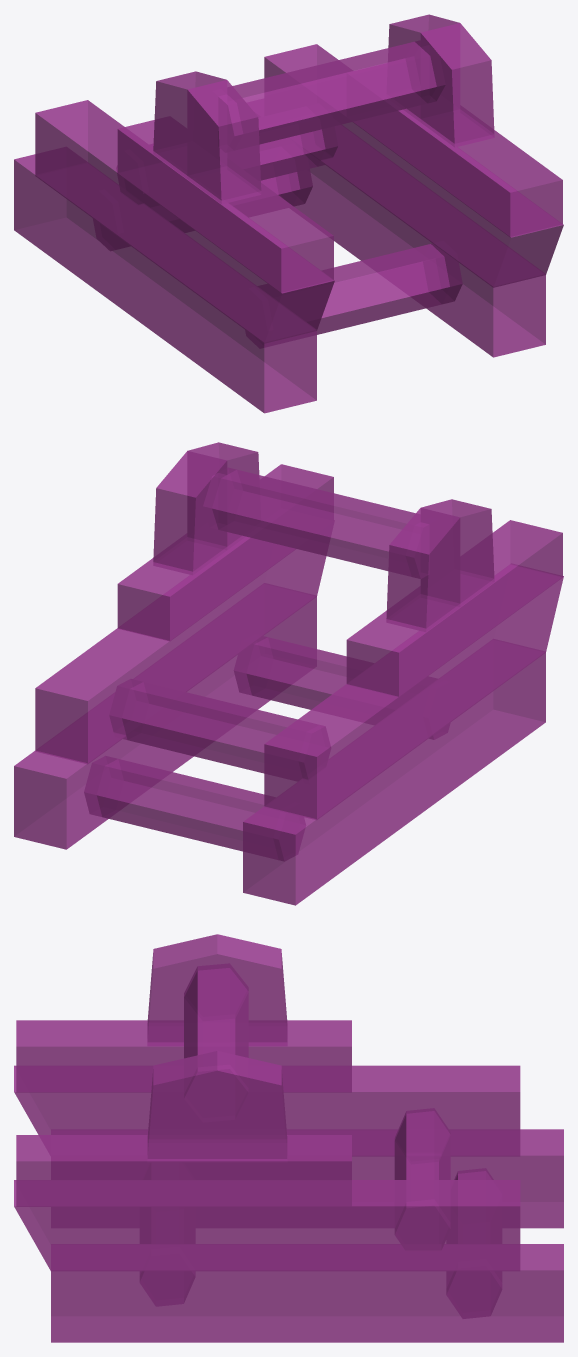
Rendered from SM_Wep_Cannon_03_Collision.fbx.
The picture shows the model from 3 angles, top to bottom: view 1: azimuth 30°, elevation 25°; view 2: azimuth 150°, elevation 25°; view 3: azimuth 270°, elevation 25°; orthographic projection. The views are drawn at different scales.
Visible parts, largest first — view 1: SM_Wep_Cannon_03_Collision; view 2: SM_Wep_Cannon_03_Collision; view 3: SM_Wep_Cannon_03_Collision.
Boxes of the visible parts, x1,y1,x2,y2 form: SM_Wep_Cannon_03_Collision: (14,14,563,413); SM_Wep_Cannon_03_Collision: (14,442,563,905); SM_Wep_Cannon_03_Collision: (14,934,563,1342).
Bounding box in the file's own units: 115 × 103 × 190.
